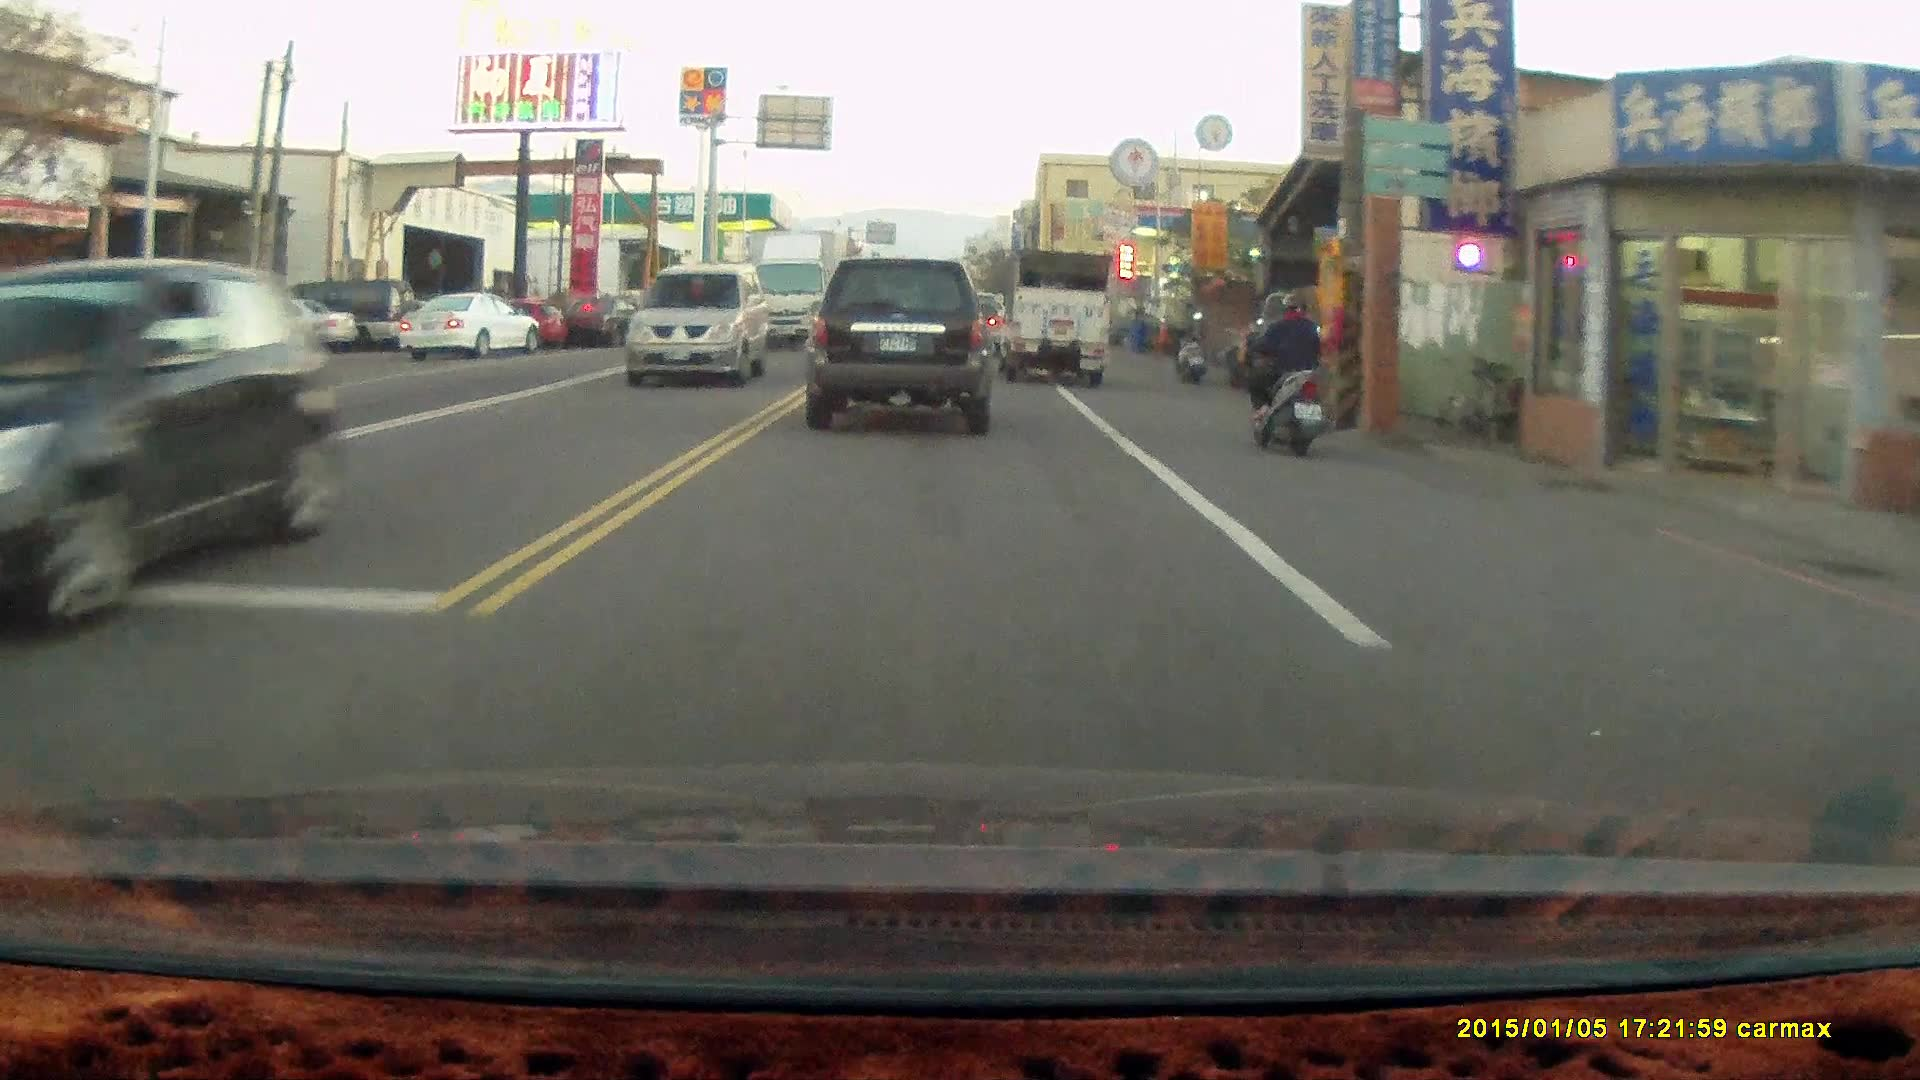rider: (1236, 285, 1330, 454)
vehicle: (2, 255, 341, 657), (804, 255, 998, 433), (627, 261, 774, 384), (995, 245, 1112, 386), (400, 290, 544, 360)
